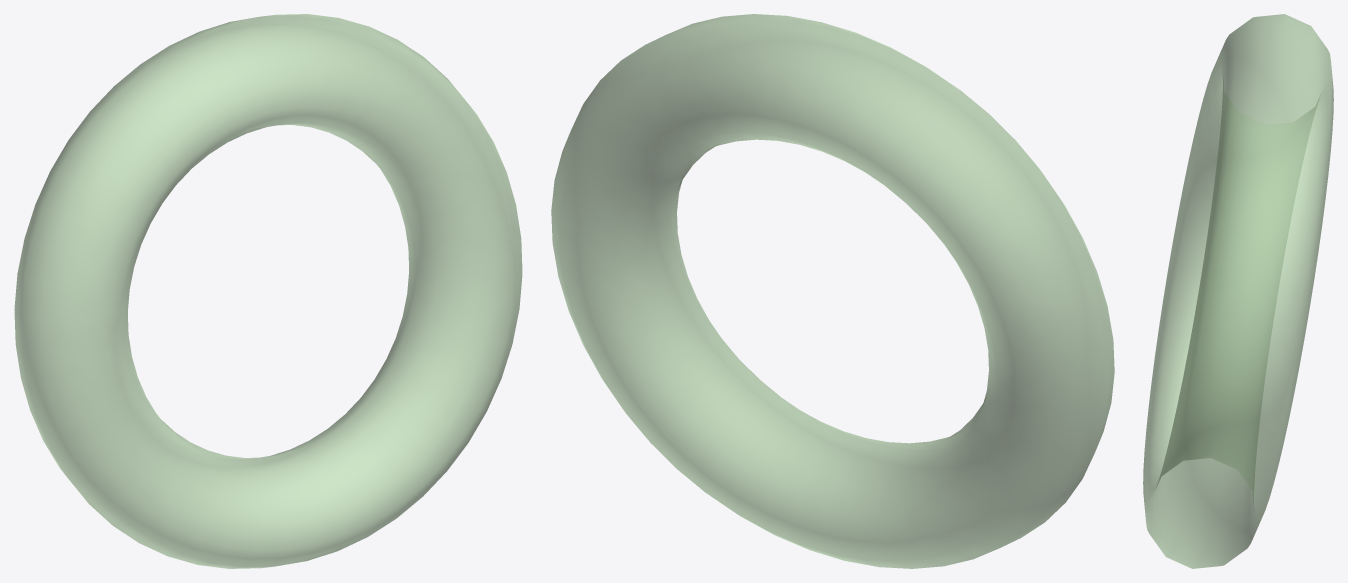
The model's file is base_pheromone.dae.
The picture shows the model from 3 angles, left to right: view 1: azimuth 30°, elevation 25°; view 2: azimuth 150°, elevation 25°; view 3: azimuth 270°, elevation 25°; orthographic projection. The views are drawn at different scales.
Visible parts, largest first — view 1: Torus_003; view 2: Torus_003; view 3: Torus_003.
Boxes of the visible parts, bbox=[...] form: Torus_003: bbox=[14, 14, 522, 568]; Torus_003: bbox=[551, 14, 1114, 568]; Torus_003: bbox=[1143, 14, 1333, 568].
Size of the model in its own units: 5 by 1.69 by 4.92.
